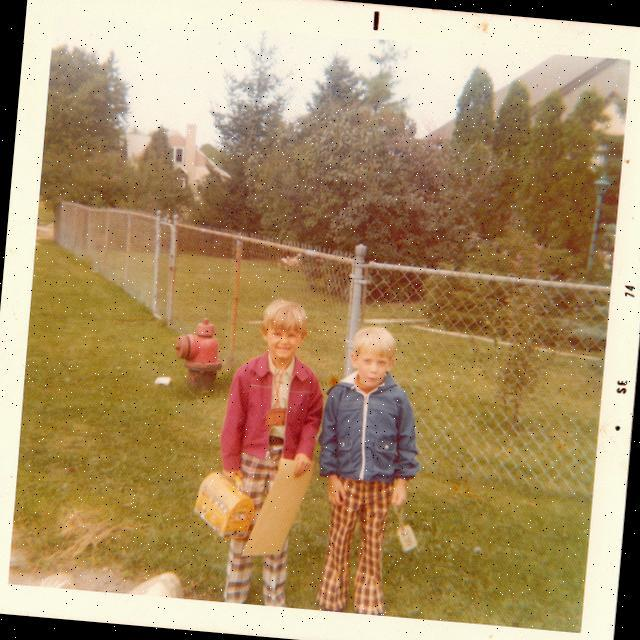fire_hydrant: (170, 312, 226, 394)
